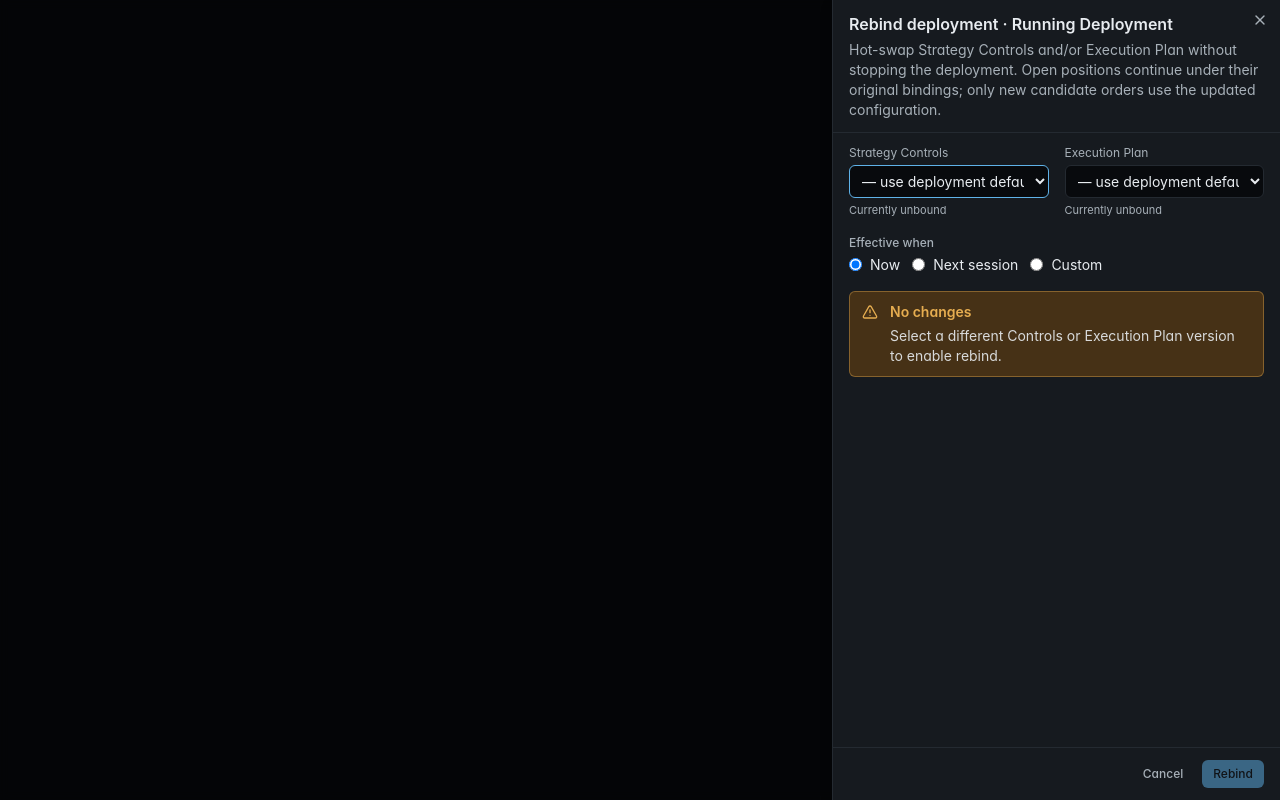
Scenario: <RebindDeploymentDrawer /> › shows custom datetime input when Custom is selected
Click the radio button labelled "Custom".
click(1037, 264)  # box [1030,258,1043,271]
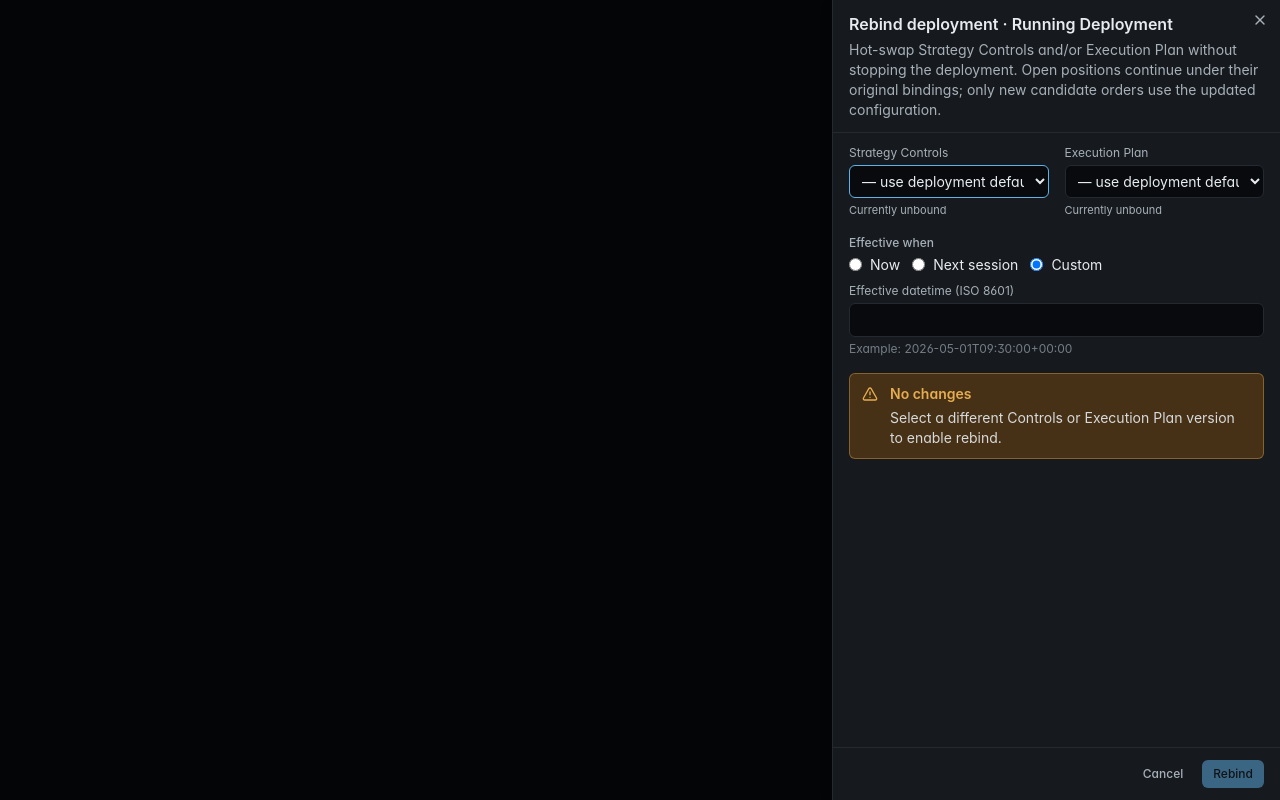
Now the field labelled "Effective datetime" is shown, box [849,302,1264,336]
